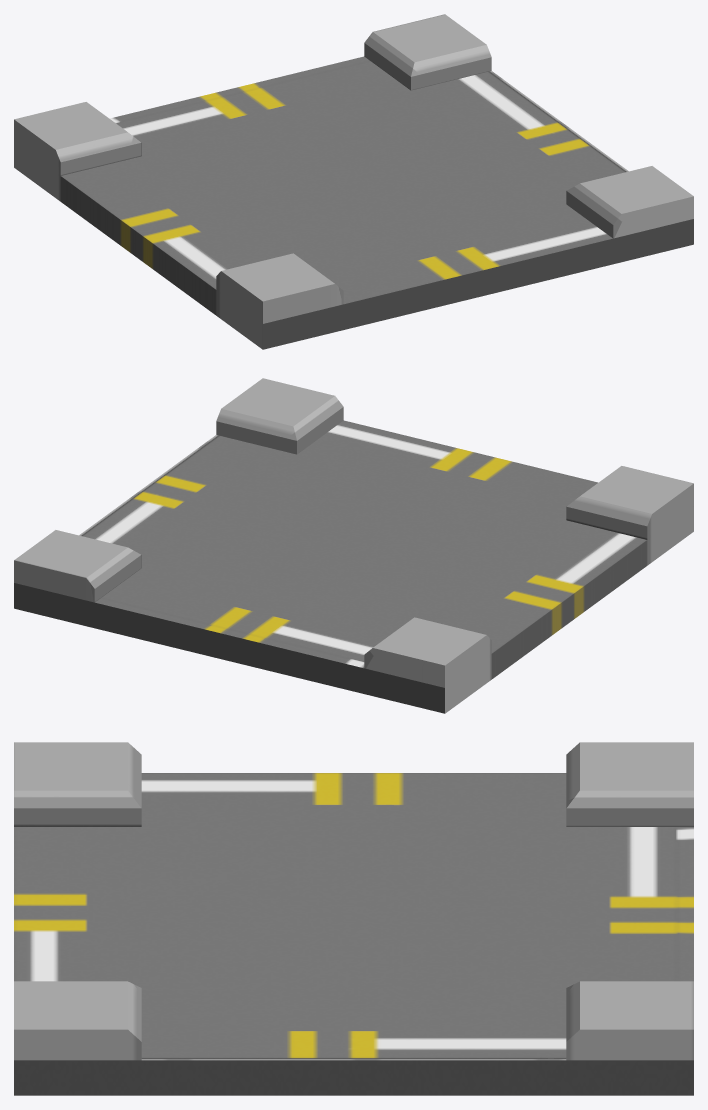
The model's file is RoadCross.FBX.
The picture shows the model from 3 angles, top to bottom: view 1: azimuth 30°, elevation 25°; view 2: azimuth 150°, elevation 25°; view 3: azimuth 270°, elevation 25°; orthographic projection. The views are drawn at different scales.
Visible parts, largest first — view 1: RoadCross; view 2: RoadCross; view 3: RoadCross.
Part boxes in pixels (bbox=[...]): RoadCross: bbox=[14, 14, 693, 349]; RoadCross: bbox=[14, 378, 693, 713]; RoadCross: bbox=[14, 742, 693, 1095].
Bounding box in the file's own units: 5.08 × 0.5438 × 5.08.
Materials: 1 (1 with a texture image).
